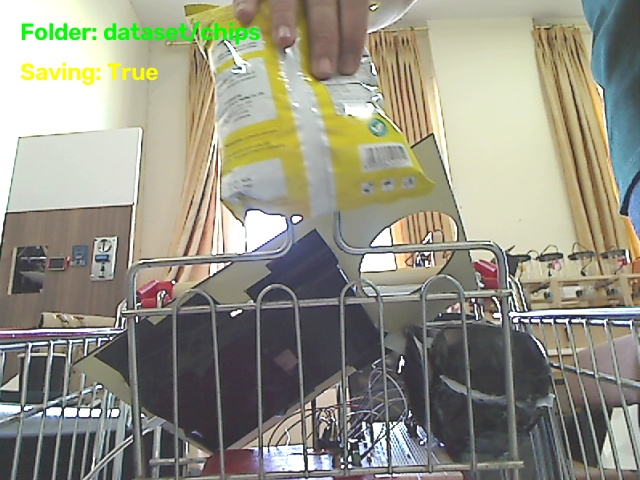chips: (185, 1, 432, 218)
